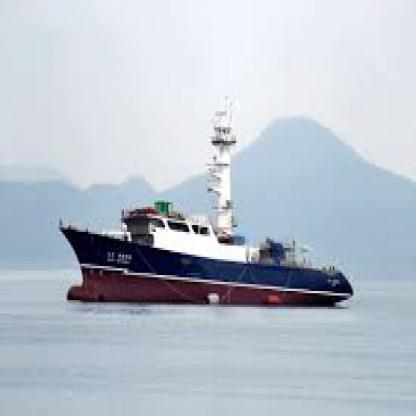fish-b: (53, 93, 363, 323)
